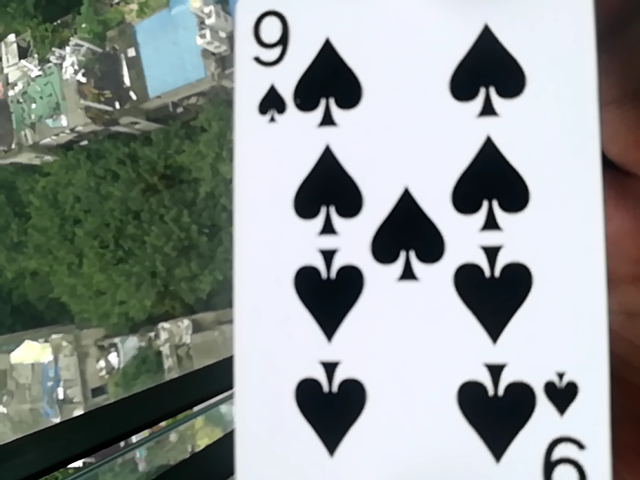ht 9: (200, 15, 613, 472)
